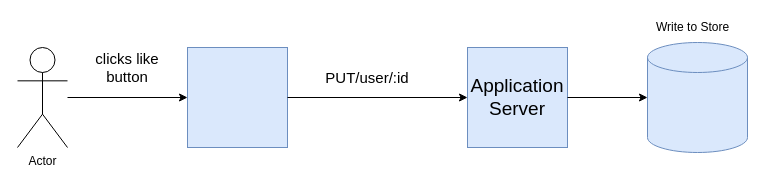
The diagram is 765 pixels wide and 185 high, and some of its shapes have lost their labels. Here are the shapes that lost their labels. From the top down, the centre of each, then its label:
At (237,97): "Client".
At (697,97): "Store".
